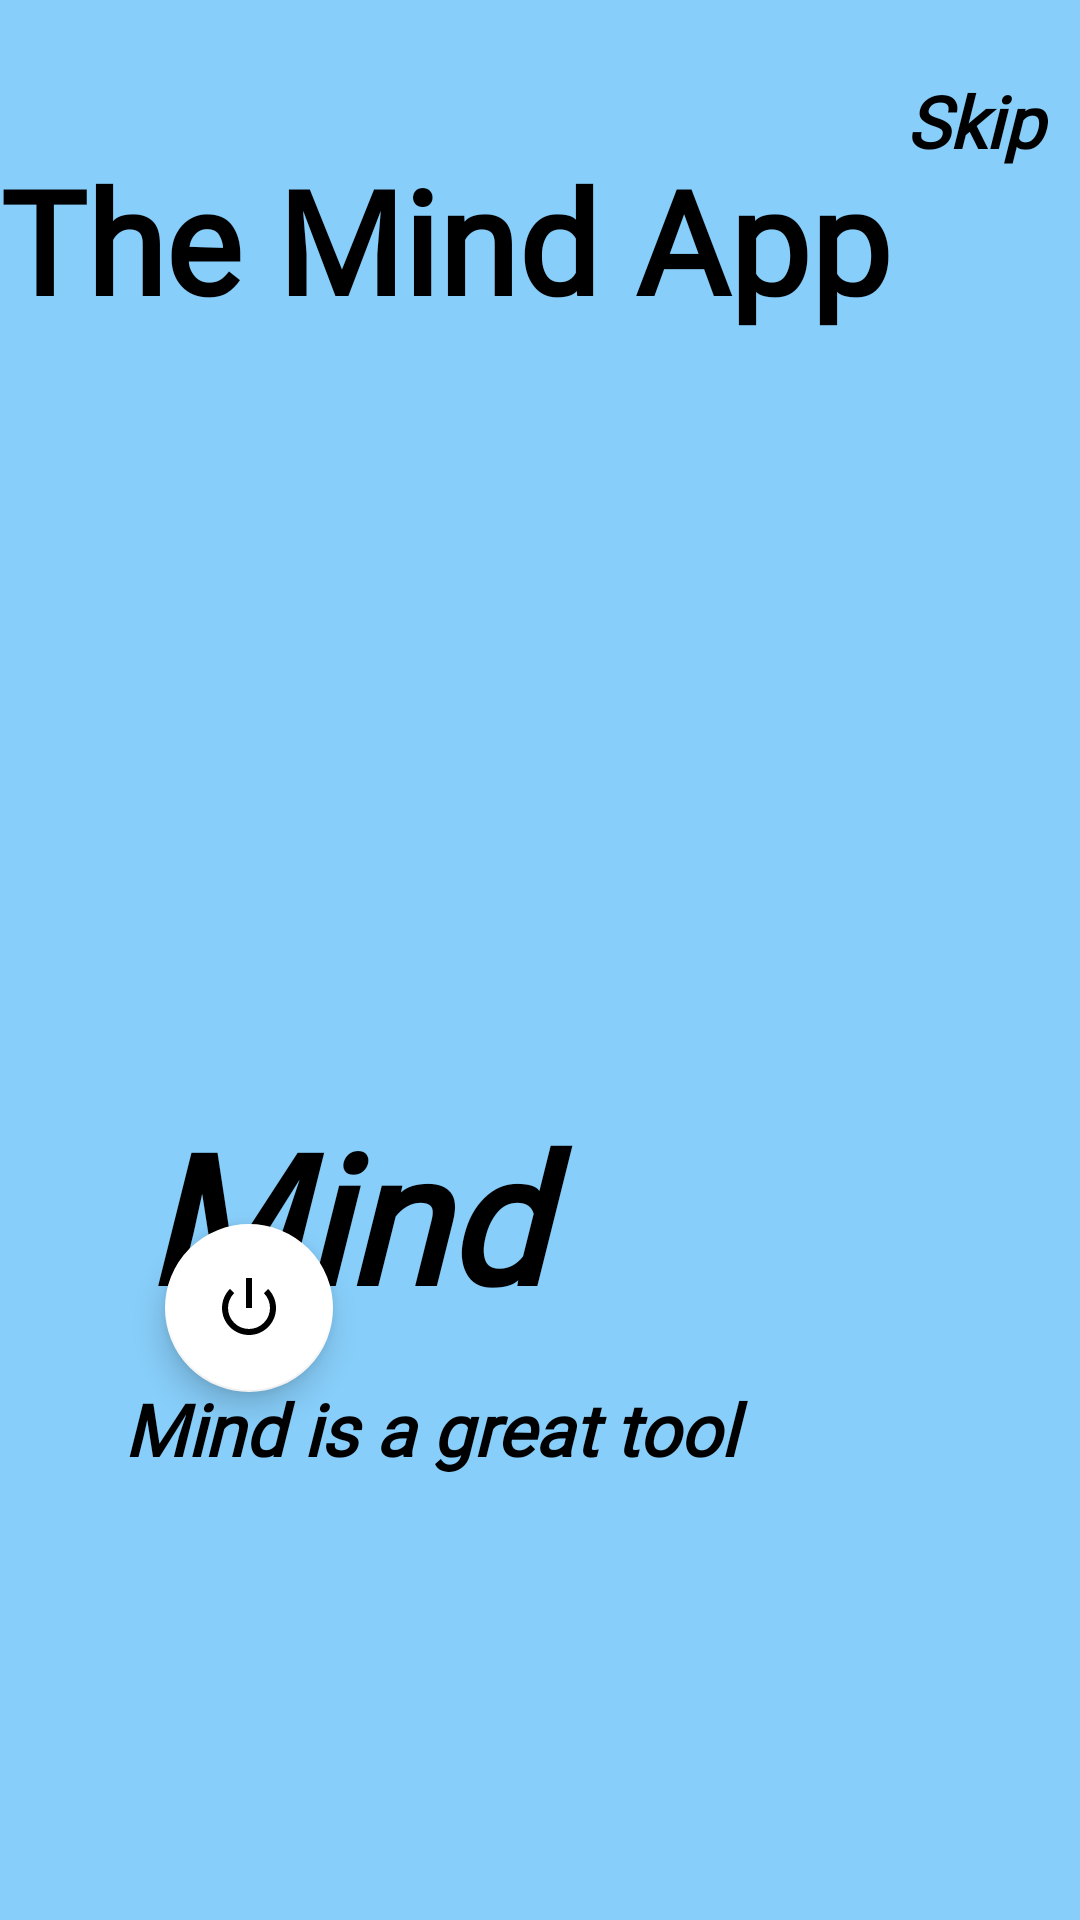

Icons on this 1080*1920 Android screen, each with the point to tap as [x,y]:
lock power off: [249,1308]
